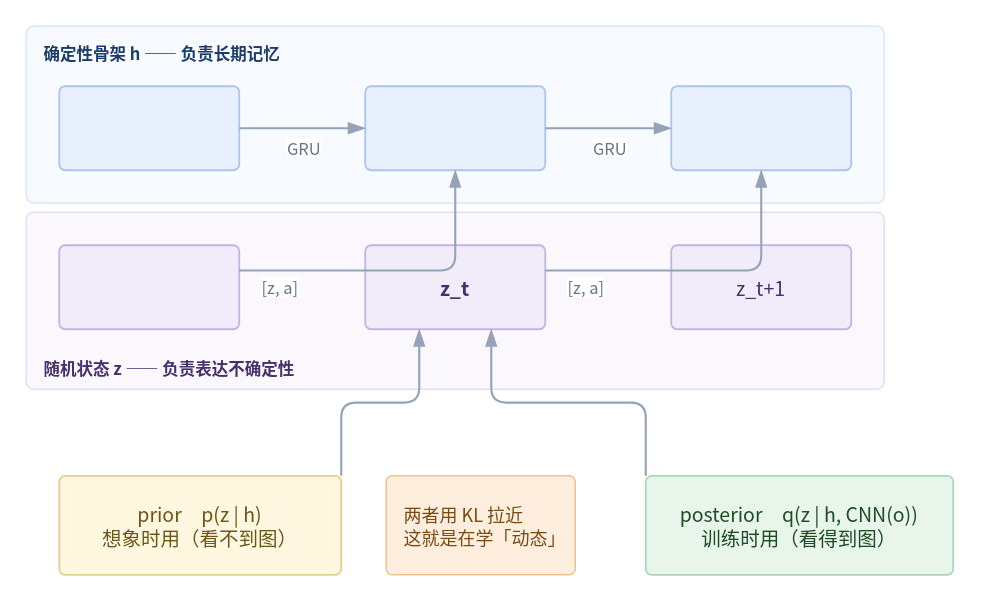
This 981x602 diagram has some shape labels left out. Here are the shapes that lost their labels. From the top down, the centre of each, then its label:
At point (148, 127): "h_t−1".
At point (454, 127): "h_t".
At point (760, 127): "h_t+1".
At point (148, 286): "z_t−1".
